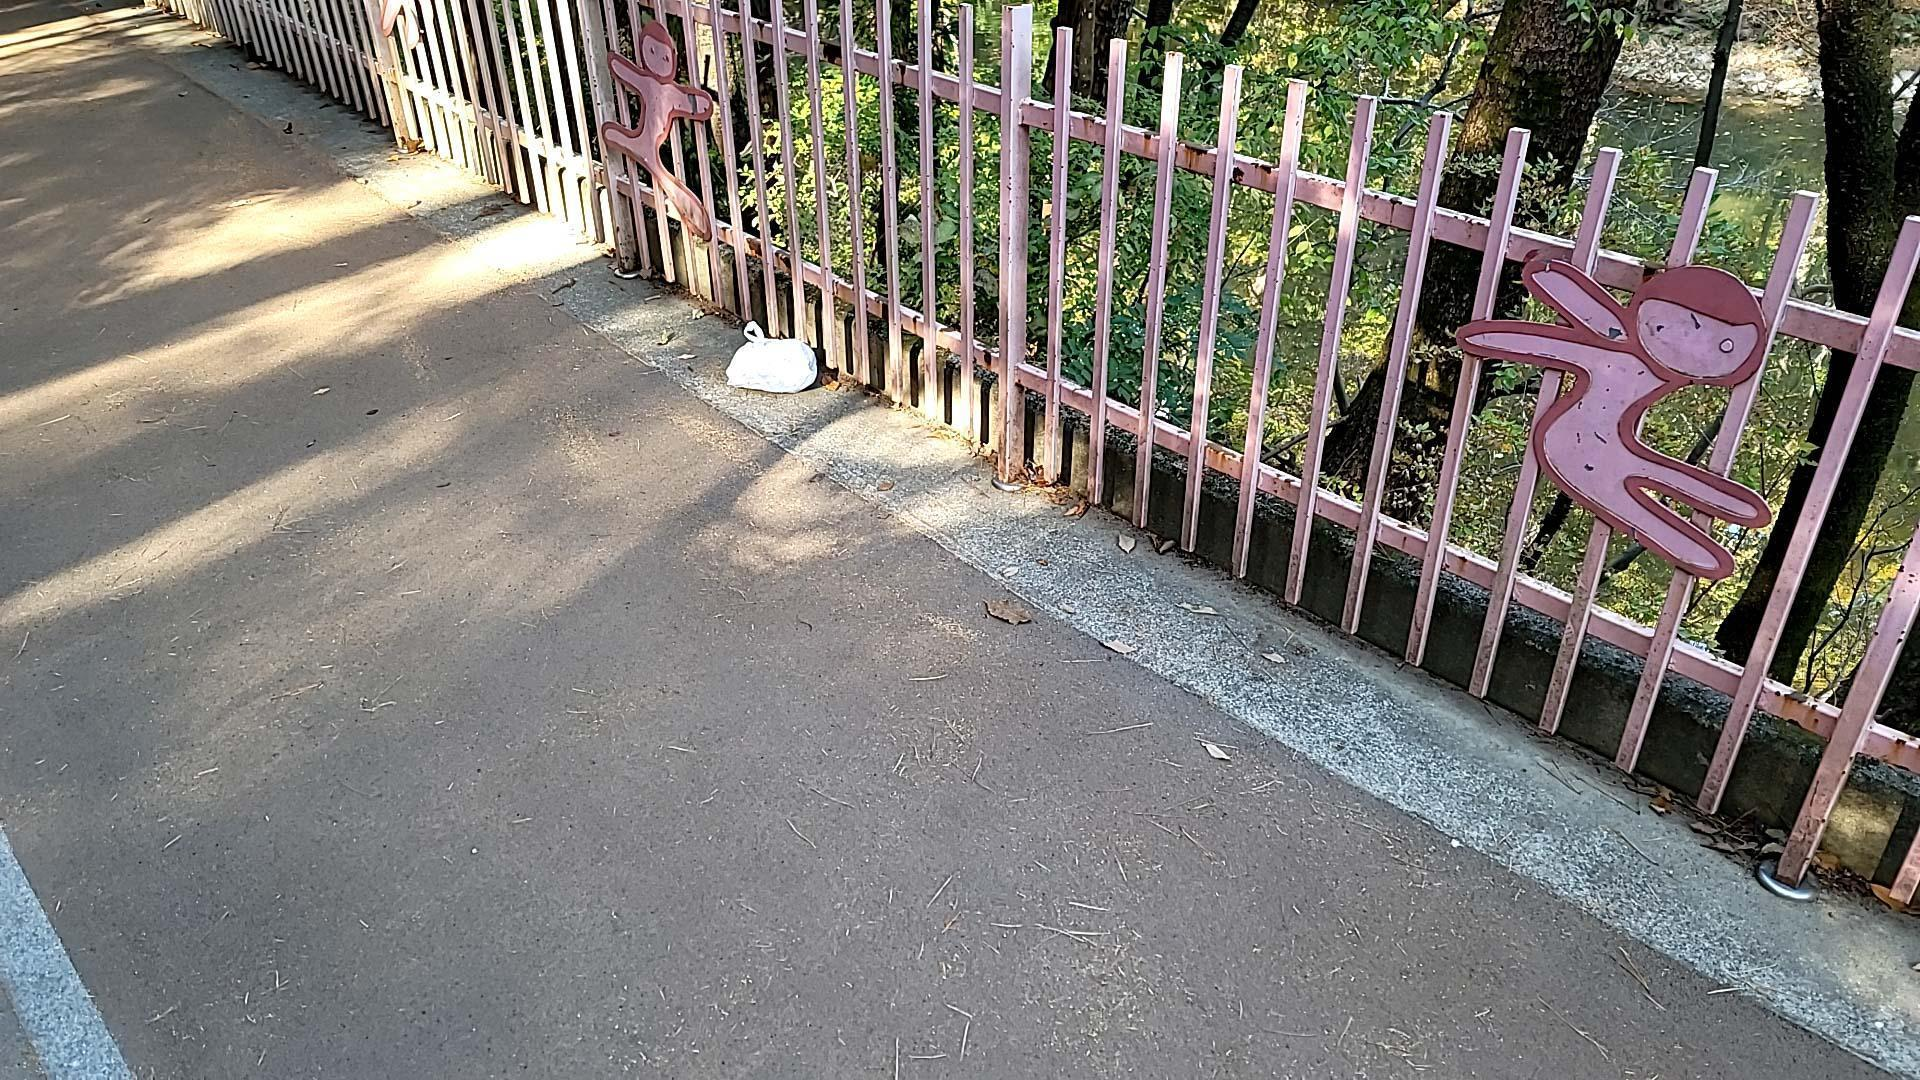white_bag: (712, 311, 828, 407)
